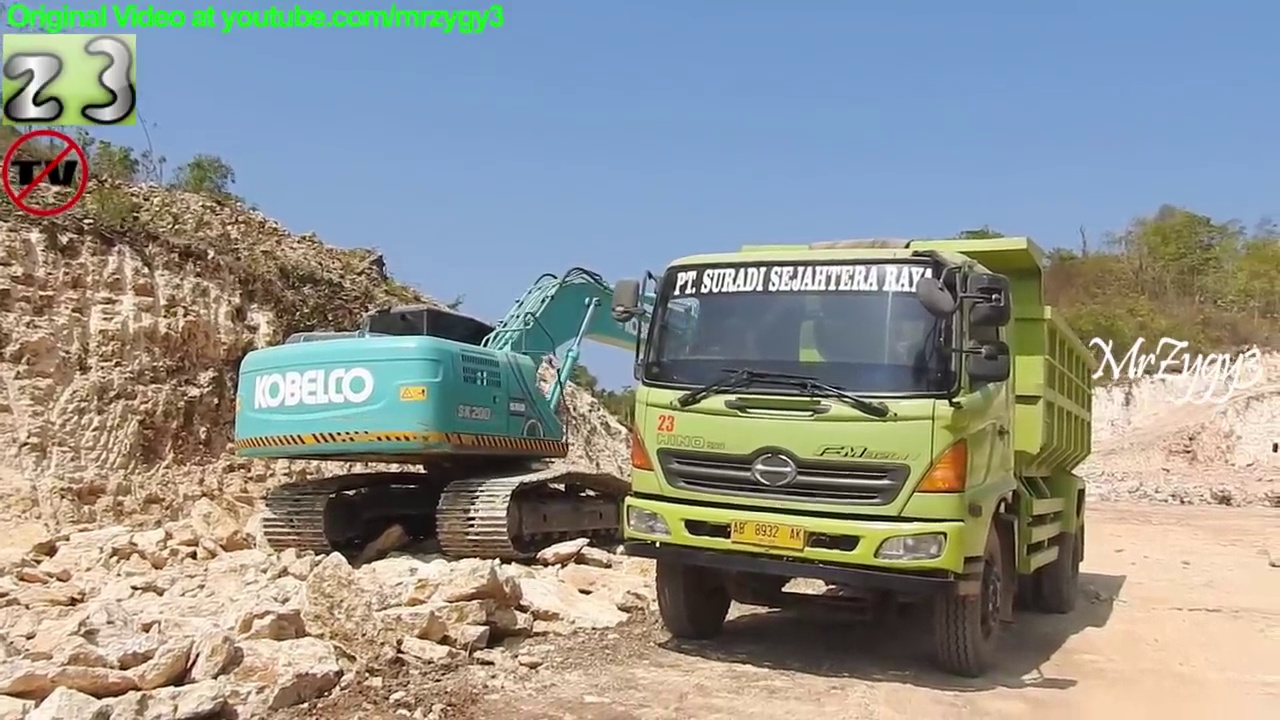excavator: (222, 258, 902, 574)
truck: (603, 228, 1105, 683)
